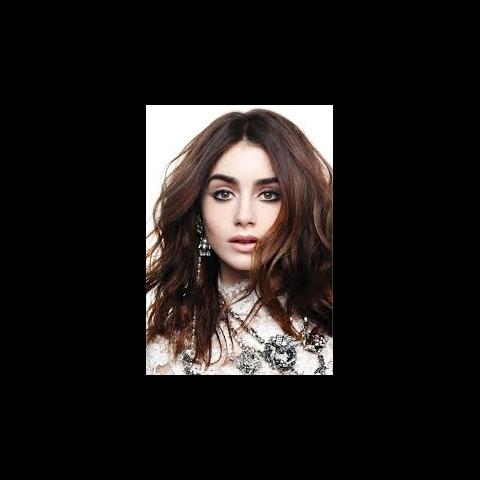opened: (200, 171, 294, 211)
